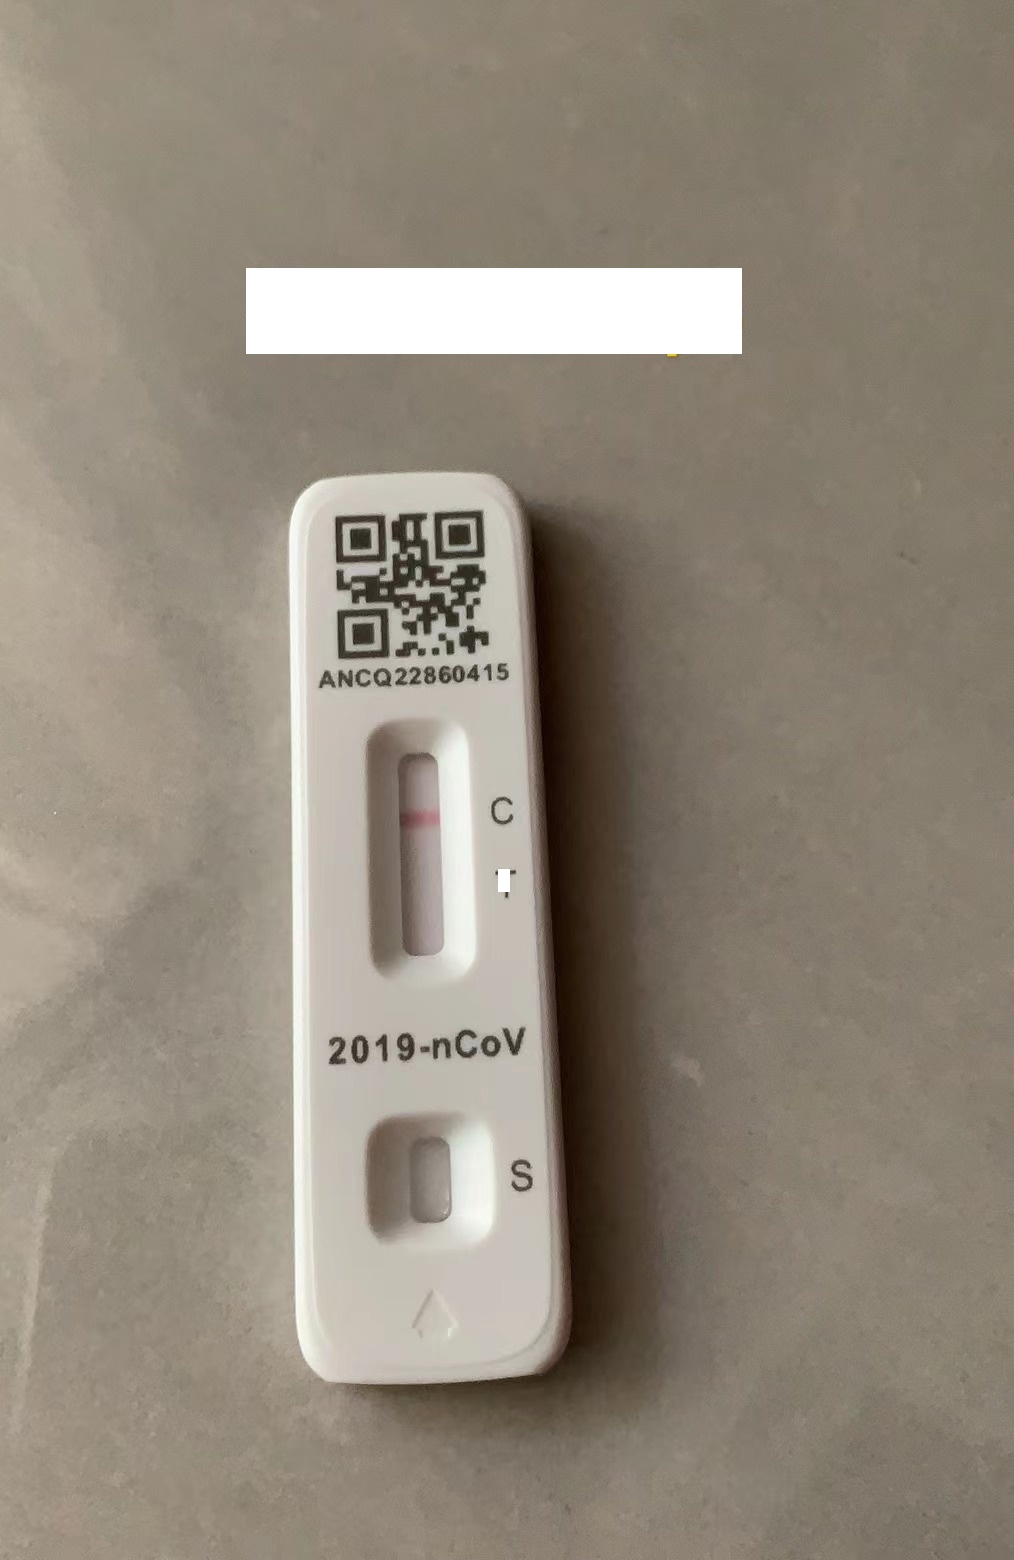negative: (366, 715, 469, 990)
